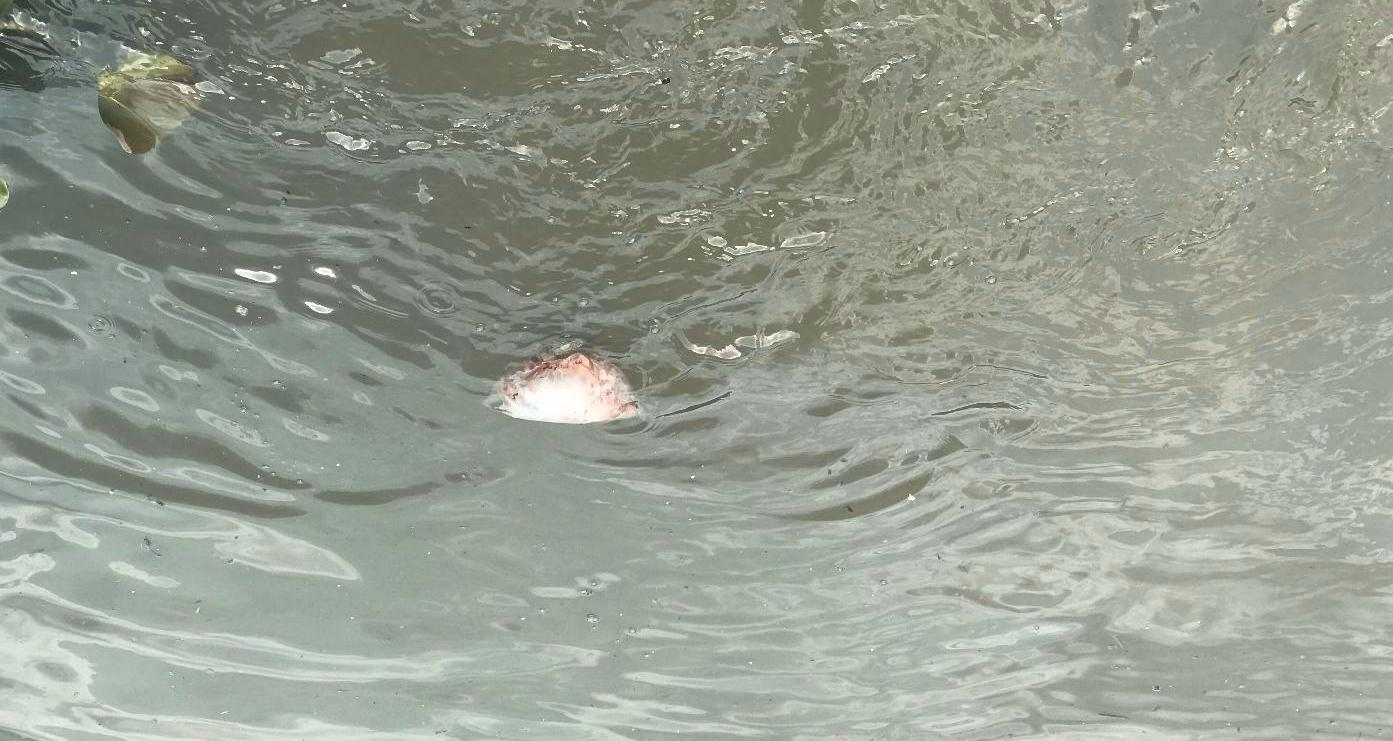Trash: (486, 354, 648, 425)
